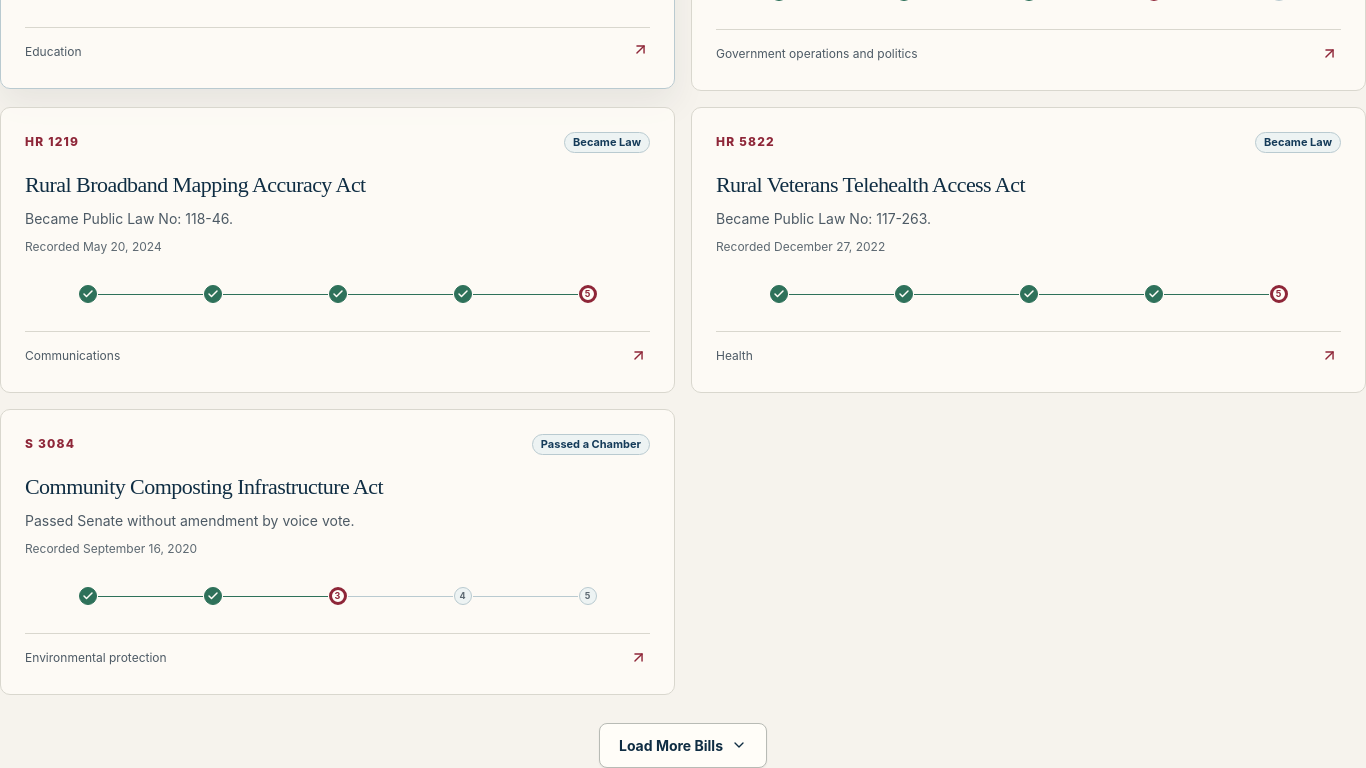
Test: BillDirectory › stops offering more once a short page comes back
The width and height of the screenshot is (1366, 768).
(page scrolled)
What coordinates should you click on to do the following:
click the button "Load More Bills"
I would click on:
 (683, 745)
Its box is left=599, top=722, right=767, bottom=767.
(page scrolled)
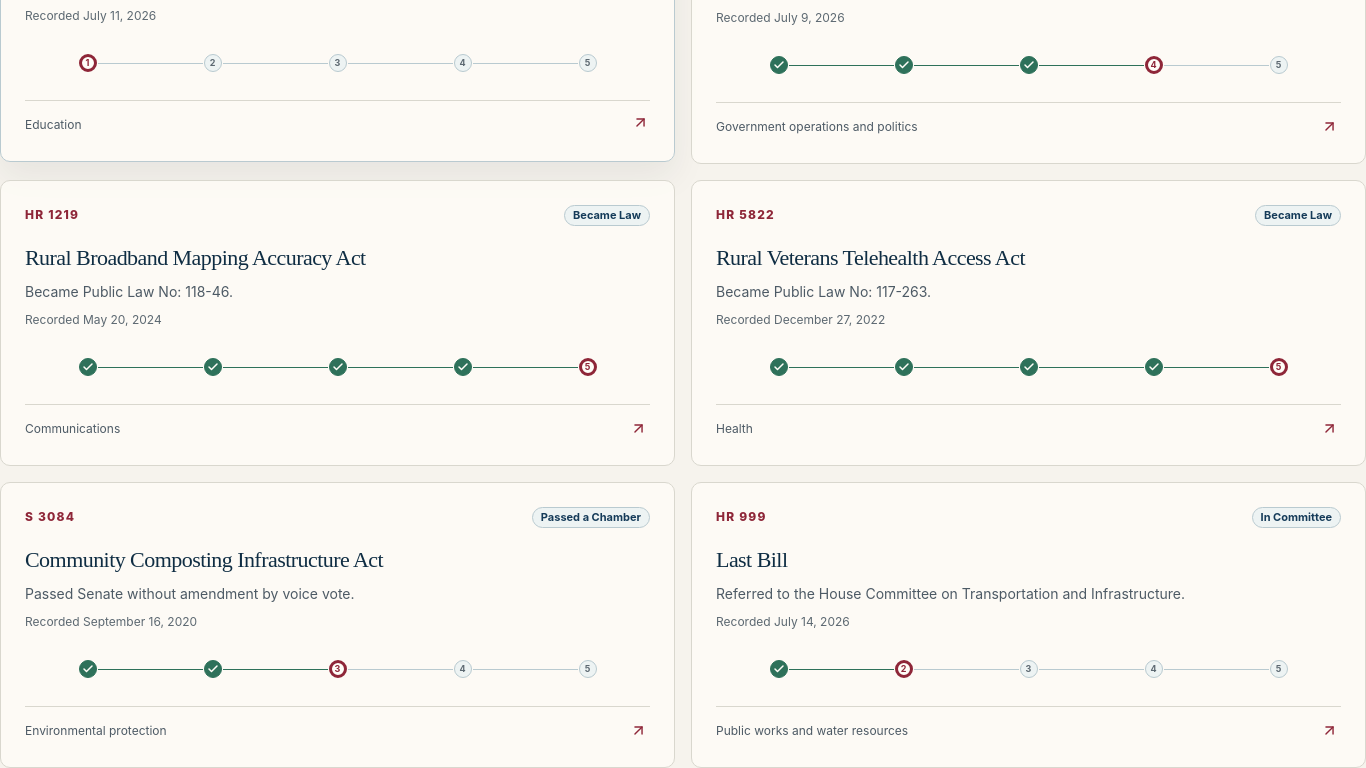
Expected: the link "Last Bill" is shown, left=716, top=546, right=788, bottom=572
Expected: the button "Load More Bills" is gone
